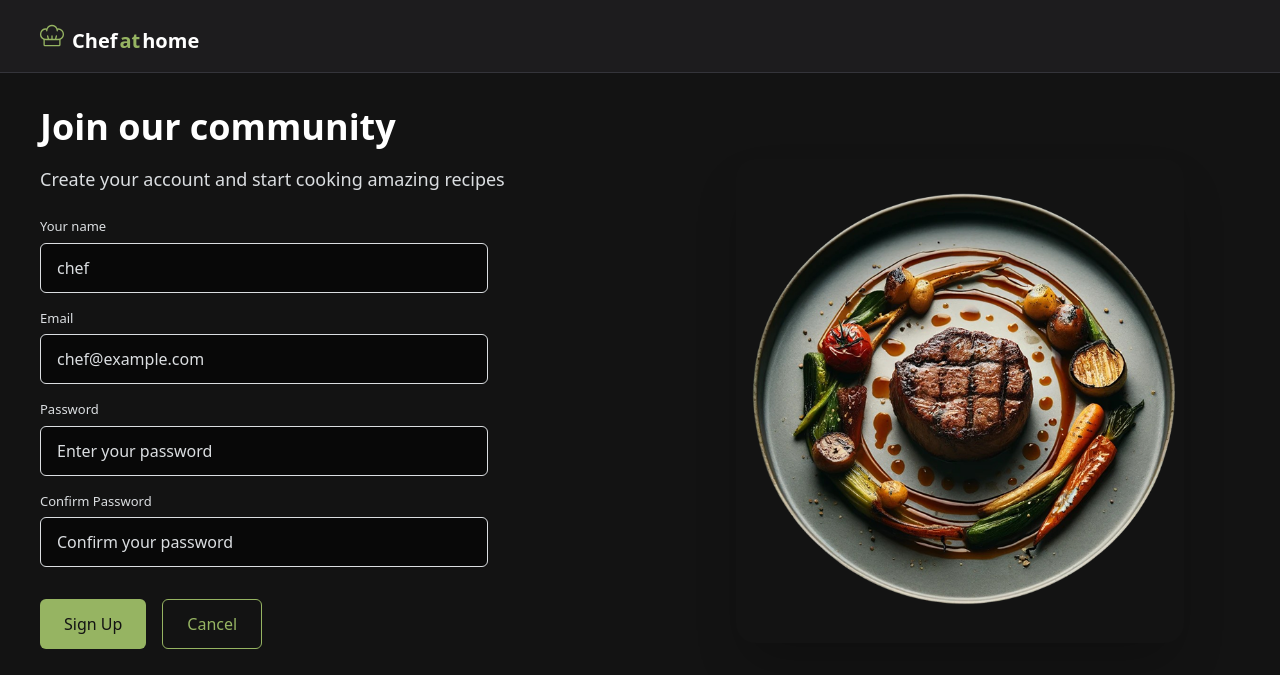
Test case: Autenticación › Registro › debería validar que las contraseñas coincidan
Type "Test User" into the field with test id "name-input" at (264, 268), box [40,243,488,293]
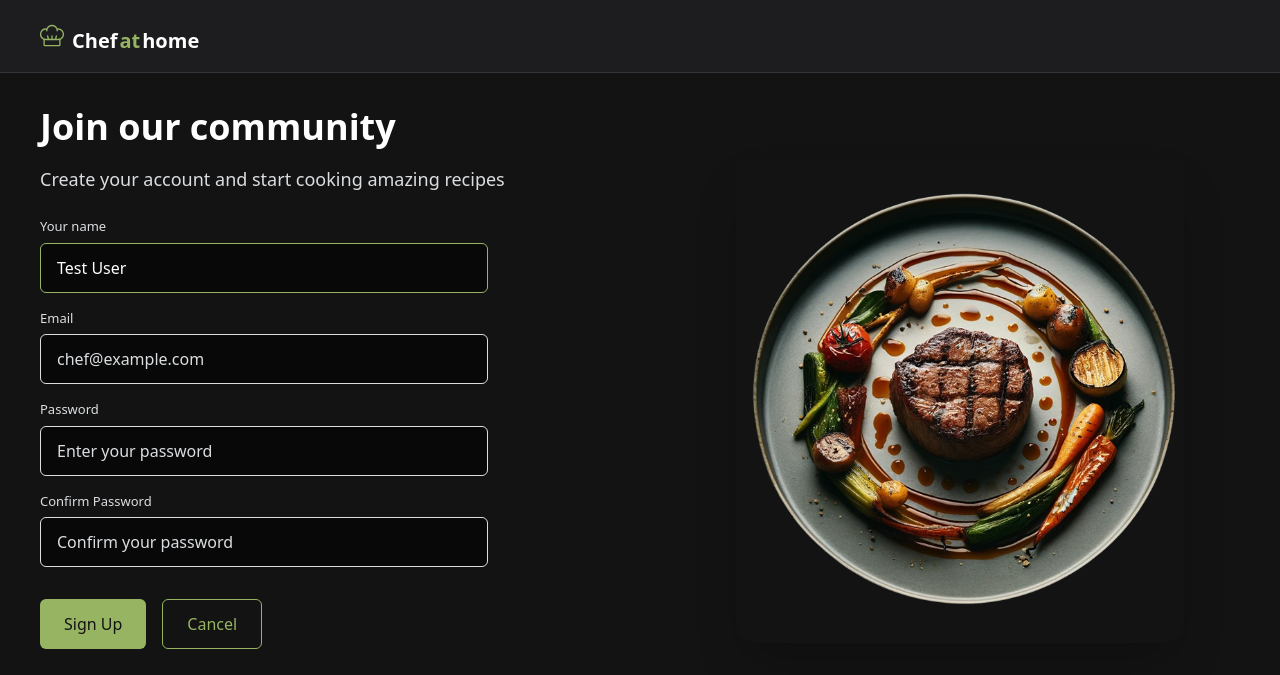
Type "test@example.com" into the field with test id "email-input" at (264, 359), box [40,334,488,384]
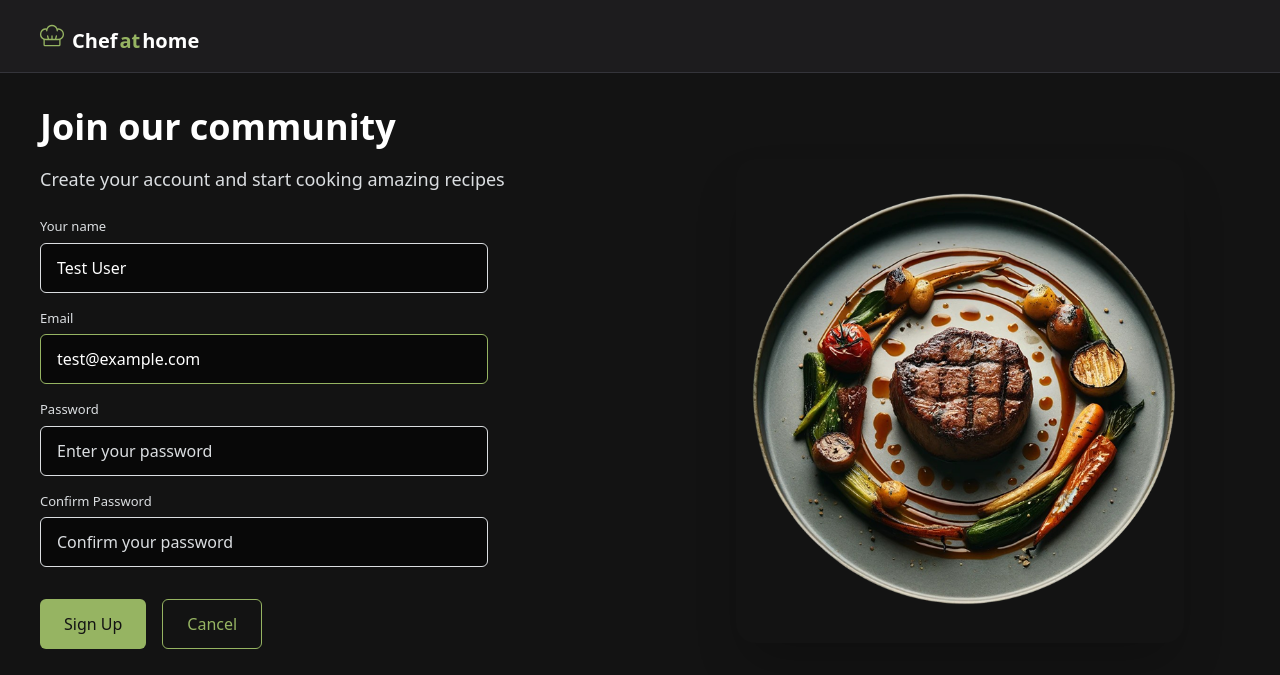
Type "password123" into the password field with test id "password-input" at (264, 451), box [40,426,488,476]
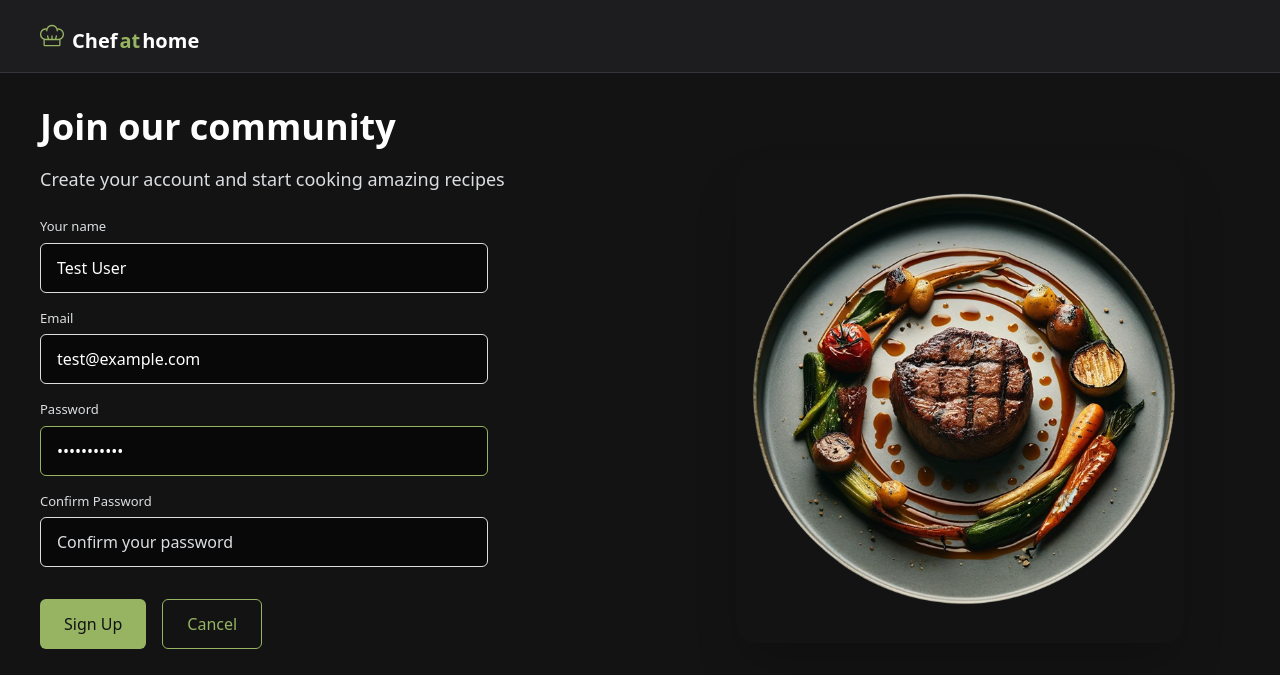
Type "different123" into the password field with test id "confirm-password-input" at (264, 542), box [40,517,488,567]
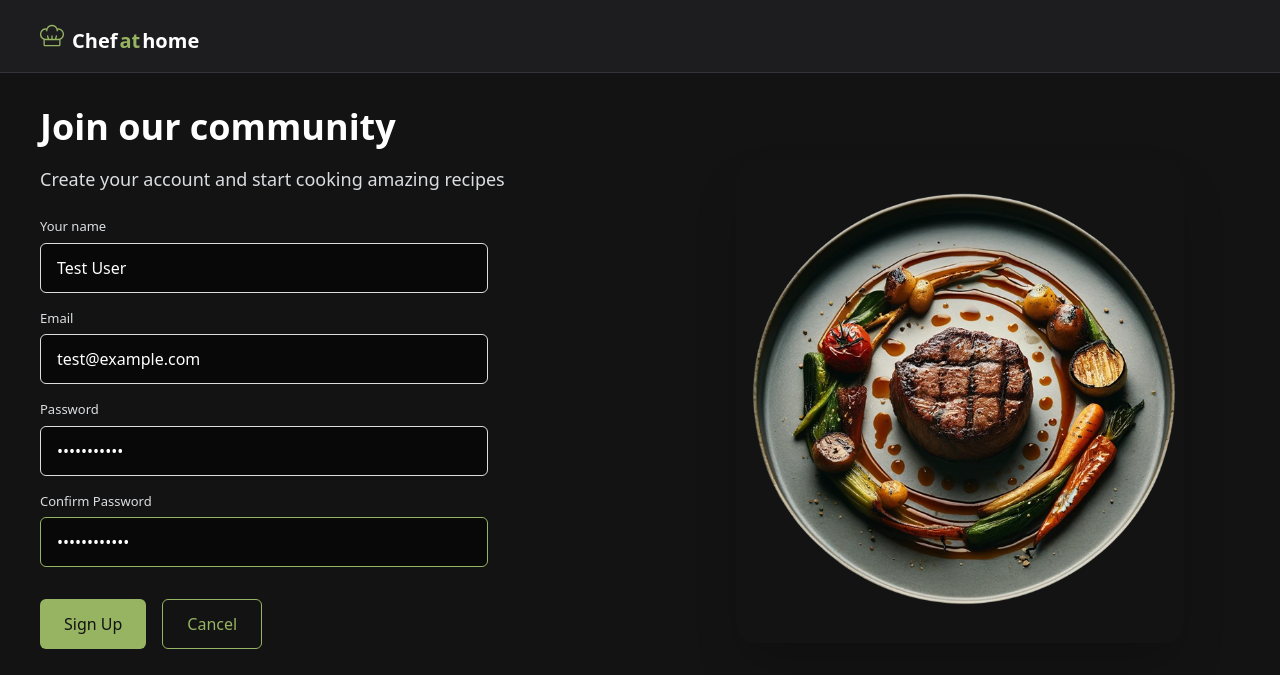
Click the button with test id "signup-button" at (93, 624), box [40,599,146,649]
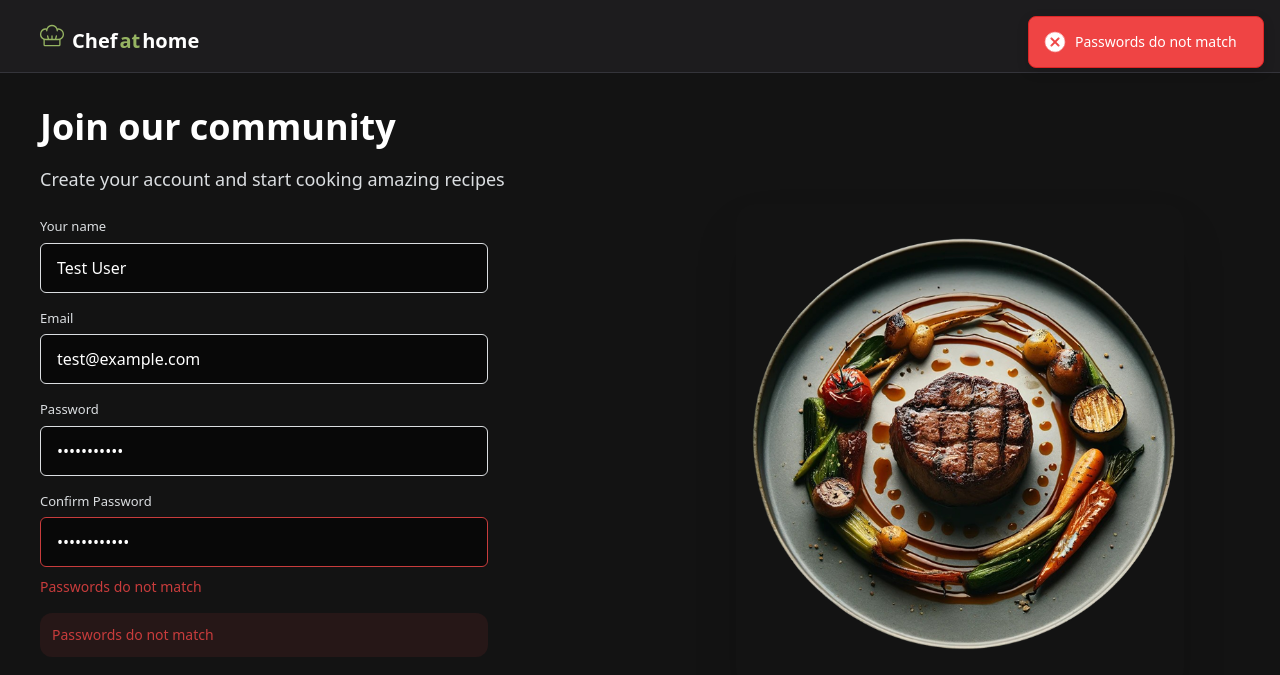
Check: the text with test id "error-message" is shown, box [40,613,488,657]
